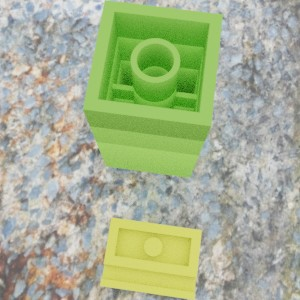lego: (82, 0, 222, 177), (100, 217, 201, 300)
